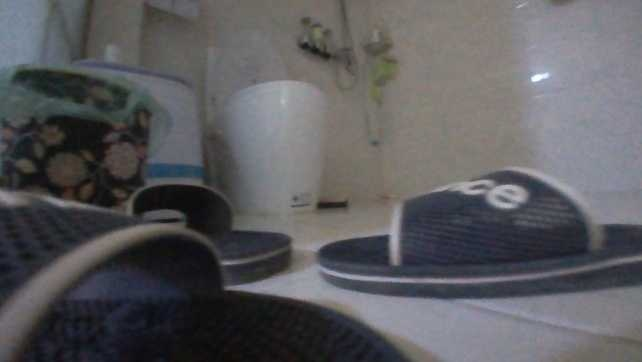slipper: (317, 164, 638, 300), (110, 178, 296, 281)
toilet: (205, 41, 328, 210)
trash_can: (0, 59, 167, 207)
